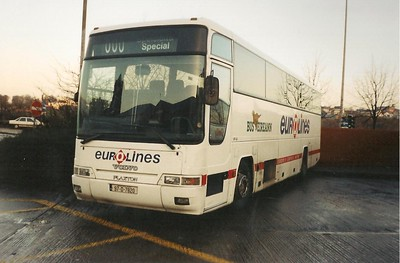bus: (72, 17, 321, 216)
car: (8, 114, 44, 130)
